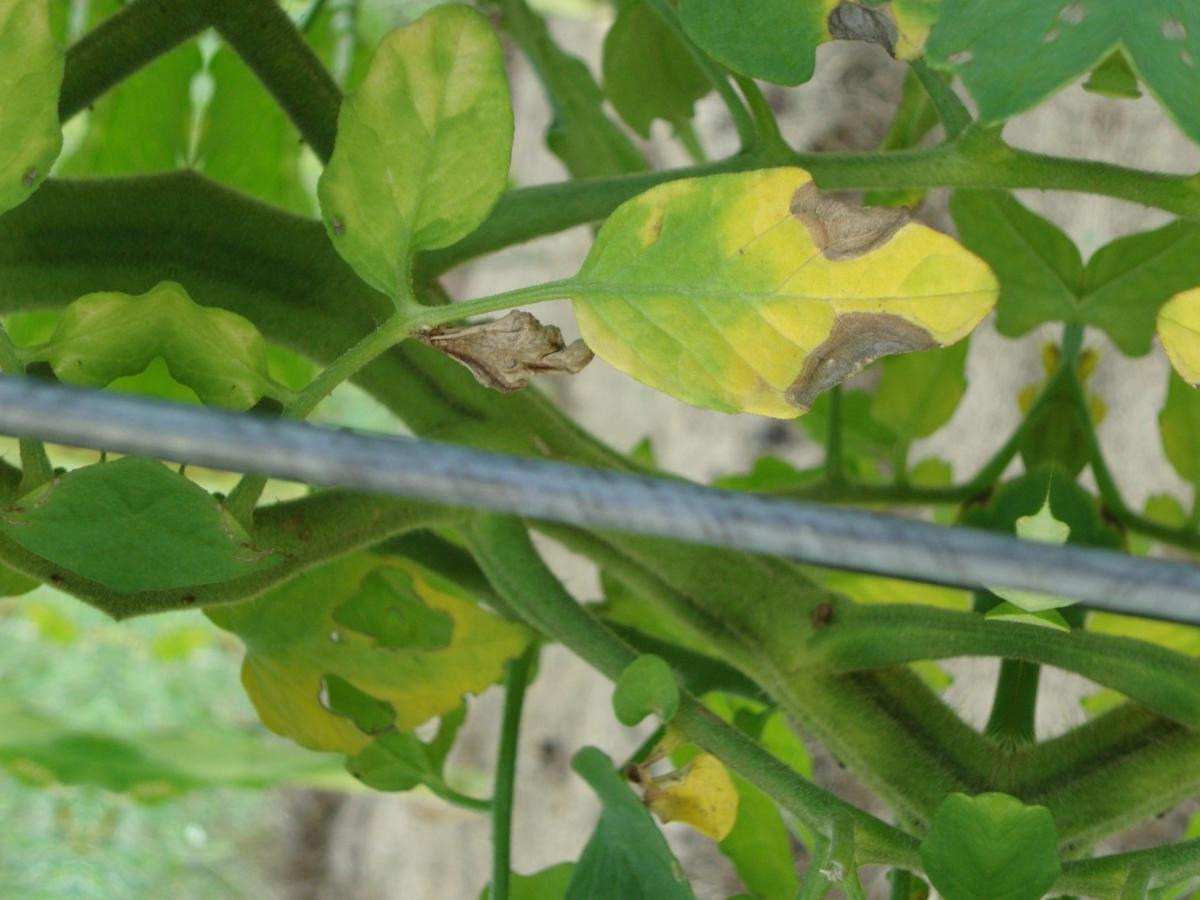Tomato Early blight leaf: (548, 145, 1010, 459)
